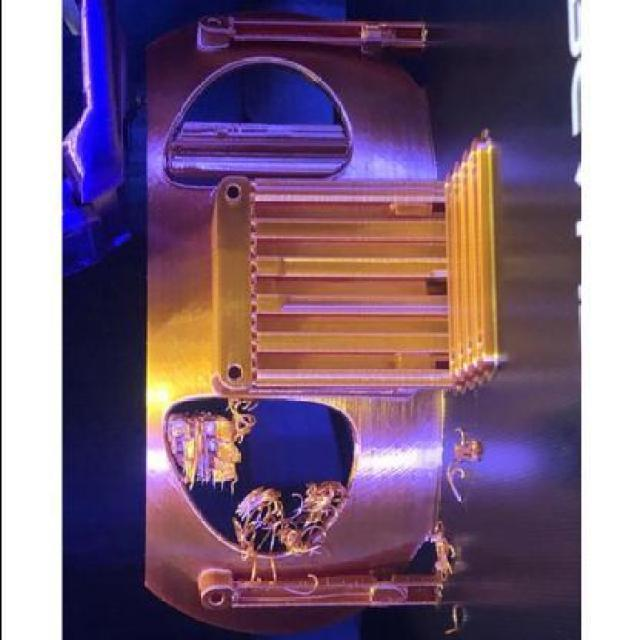spaghetti: (158, 384, 352, 593), (421, 519, 464, 640), (434, 420, 482, 505)
